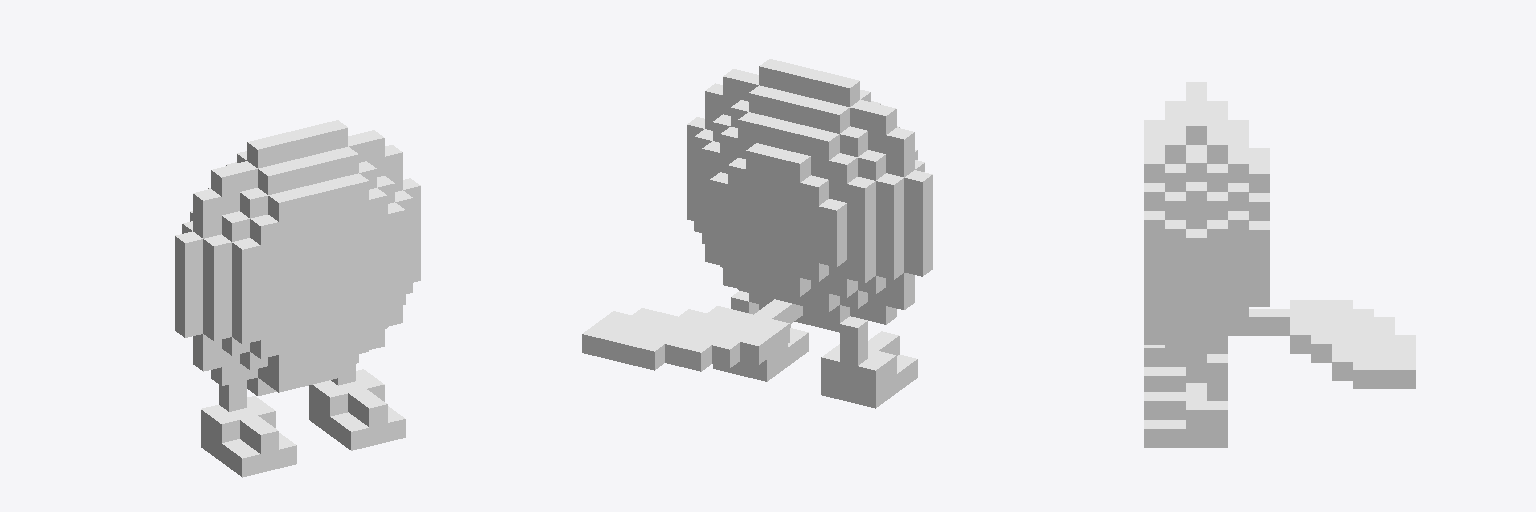
Rendered from politriste.obj.
3 renders of one model, left to right at view 1: azimuth 30°, elevation 25°; view 2: azimuth 150°, elevation 25°; view 3: azimuth 270°, elevation 25°, orthographic.
Parts seen in each view (by area): view 1: object 1; view 2: object 1; view 3: object 1.
Boxes of the visible parts, x1=… form: object 1: x1=175, y1=120, x2=420, y2=477; object 1: x1=582, y1=59, x2=932, y2=408; object 1: x1=1144, y1=82, x2=1415, y2=447.
Bounding box in the file's own units: 1.3 × 1.6 × 1.3.